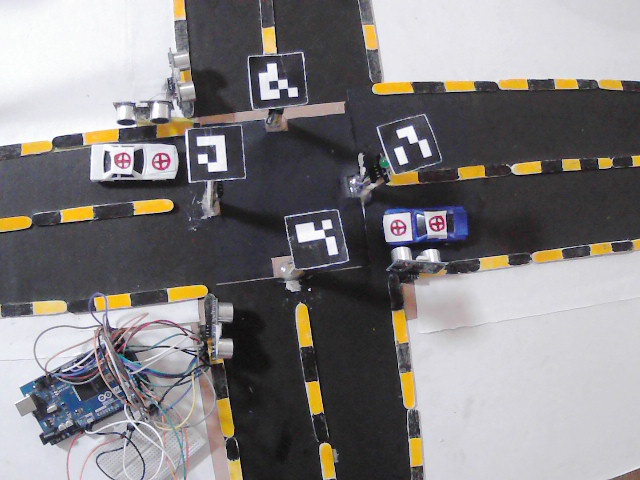aruco_marker: (377, 111, 442, 174), (283, 208, 348, 271), (186, 125, 249, 182), (246, 52, 307, 109)
emergency_vehicle: (86, 141, 180, 192), (382, 202, 468, 248)
traffic_light: (370, 150, 388, 183)
uno_breadboard: (12, 336, 157, 450), (85, 397, 209, 480), (387, 245, 446, 283), (203, 294, 235, 361), (165, 47, 197, 106), (111, 98, 173, 127)
